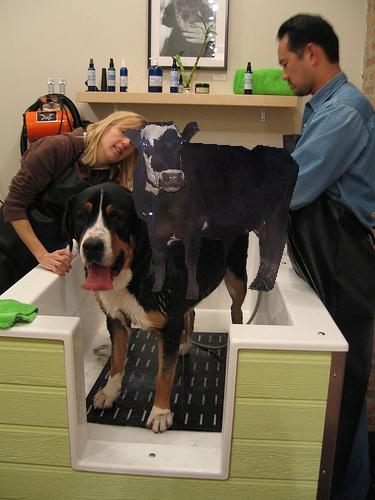tampered: (125, 122, 299, 299)
